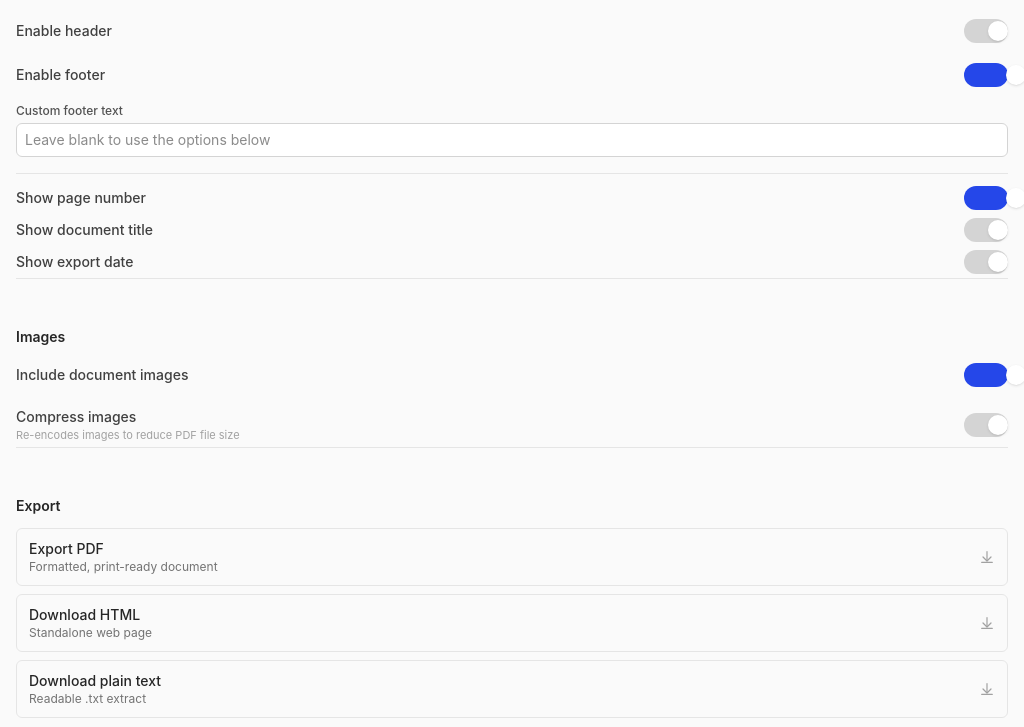
WordSettingsPanel › reveals image quality only once compression is enabled
This screenshot has width=1024, height=727.
(page scrolled)
Check: the field labelled "Image quality" is not shown
Click the switch named "compress images" in the row of "Compress images".
click(986, 425)  # box [964,413,1008,437]
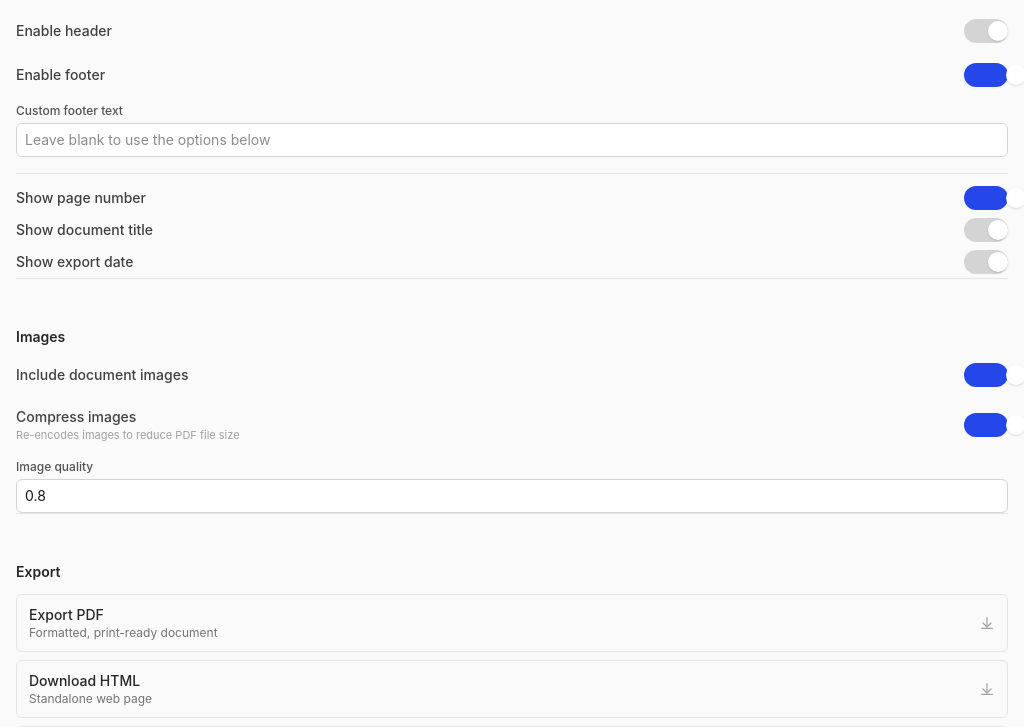
Check: the number field labelled "Image quality" is shown, box [16,479,1008,513]
